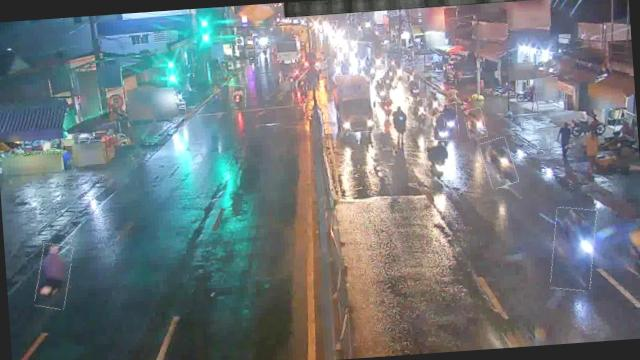Bike: (548, 206, 599, 292), (33, 243, 73, 310), (480, 136, 516, 188), (423, 139, 451, 181), (464, 108, 486, 138), (432, 112, 450, 146), (442, 103, 458, 137), (392, 104, 408, 136), (411, 99, 428, 127), (380, 92, 394, 118), (373, 77, 387, 102), (426, 90, 440, 114), (232, 85, 246, 108), (408, 78, 420, 96), (428, 101, 438, 119)
Truck: (331, 73, 374, 134)
